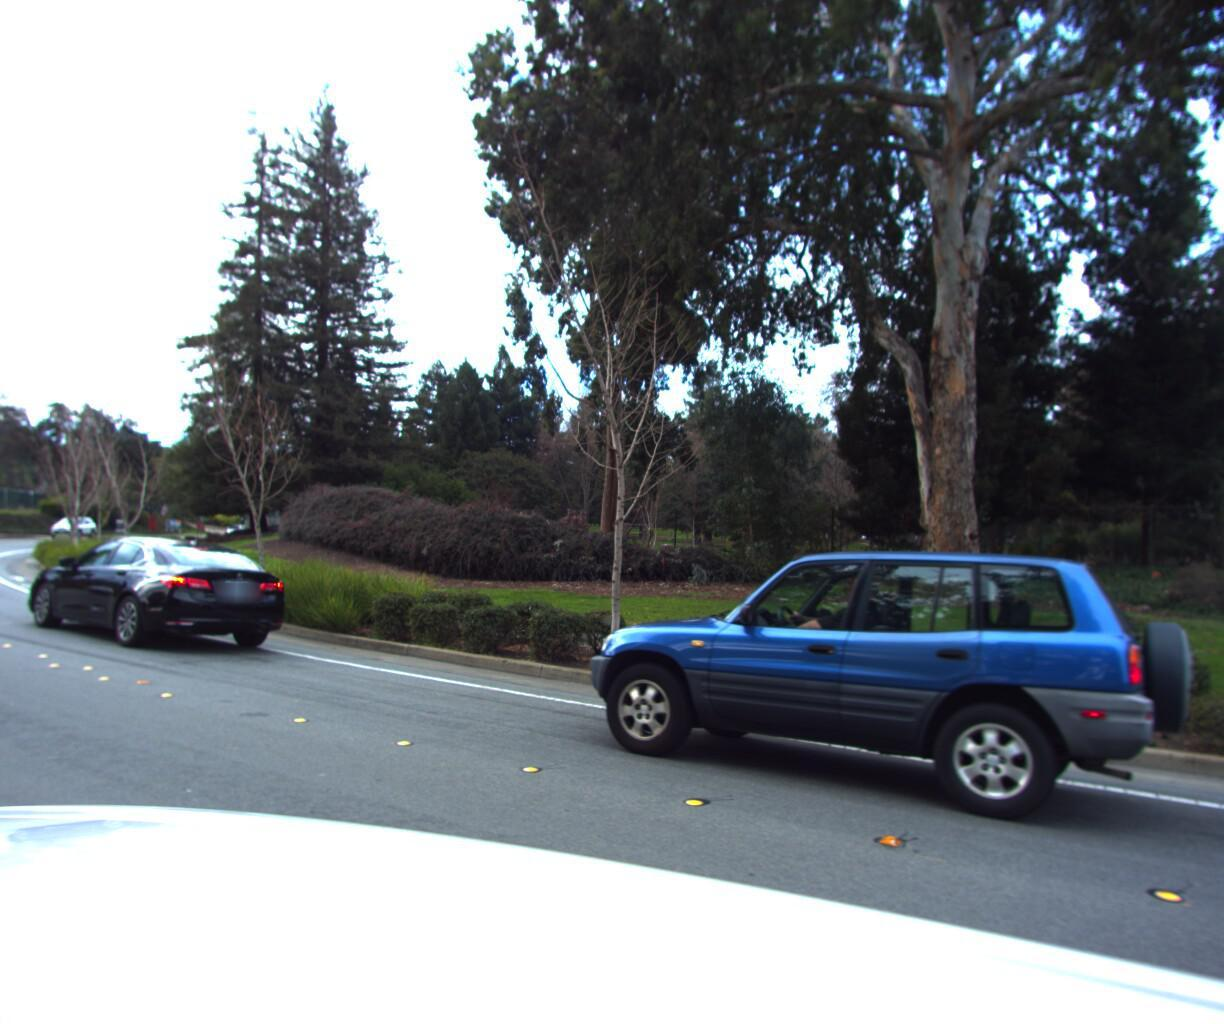car: (582, 521, 1224, 890), (27, 529, 318, 665), (49, 511, 100, 538)
